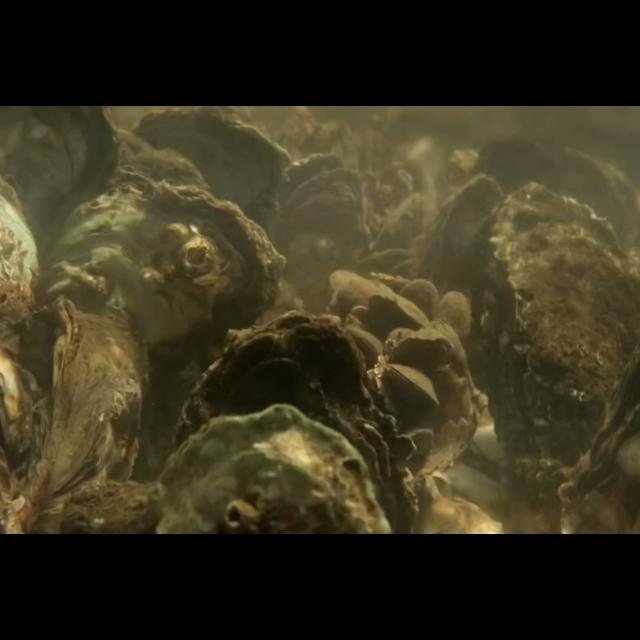Oyster-Closed: (52, 178, 286, 456), (177, 310, 417, 534), (480, 184, 640, 481), (154, 405, 392, 535), (384, 364, 438, 406), (390, 334, 456, 366)
Oyster-Indeterminate: (21, 296, 150, 534), (423, 172, 507, 328), (370, 291, 432, 327), (400, 278, 440, 326), (438, 290, 470, 340)
Oyster-Open: (268, 153, 364, 295)
